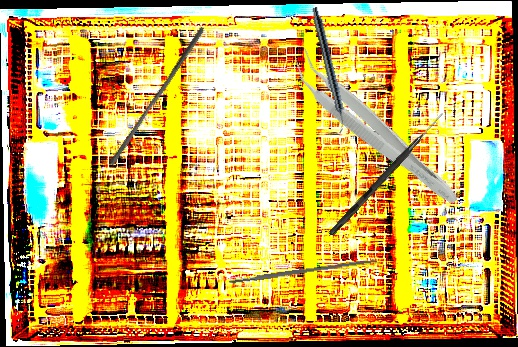Handpiece: (307, 6, 351, 134)
Hook Surgical: (328, 110, 445, 238)
Pusher: (107, 22, 207, 170)
Scalpel Handle: (228, 257, 378, 285)
Tissue Forceps: (282, 46, 470, 212)
